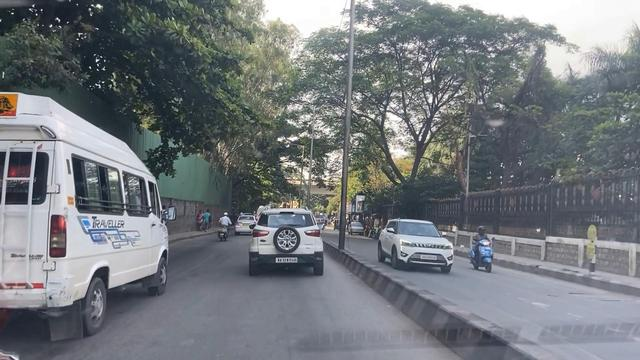HMV: (2, 97, 174, 330)
LMV: (248, 209, 323, 275)
